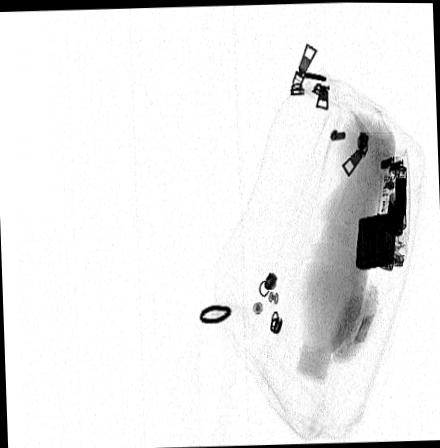Lighter: (354, 177, 405, 271)
